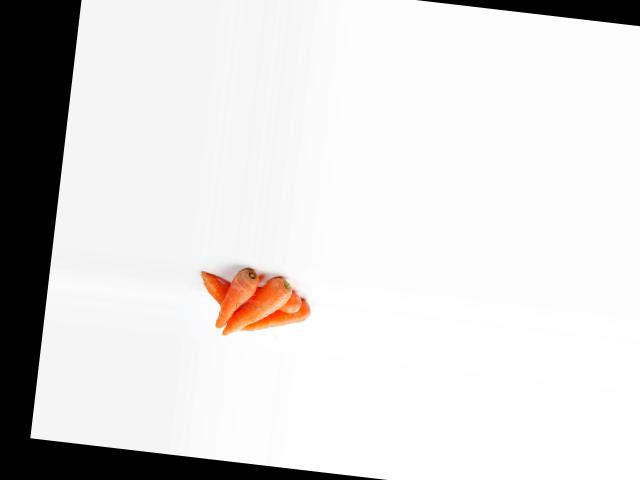carrot: (213, 264, 261, 331)
